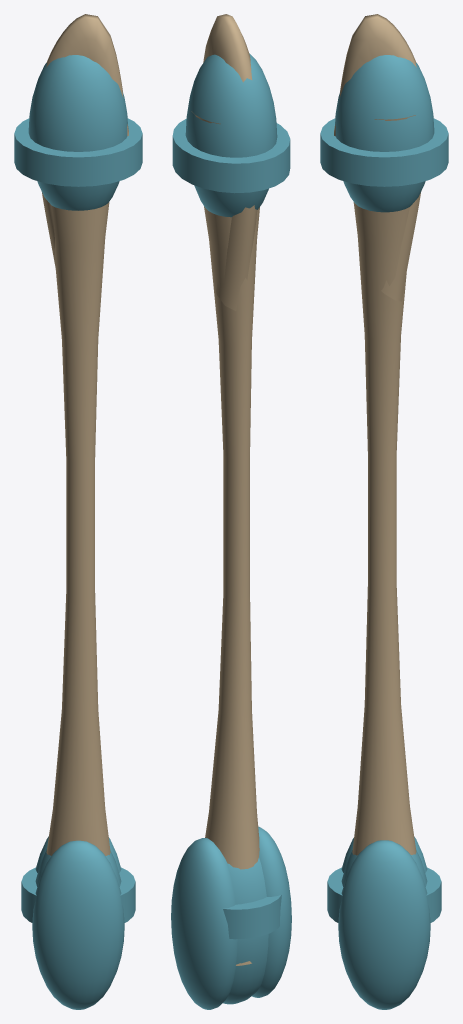
Rendered from left_ulna.glb.
3 views of the same model, side by side, from view 1: azimuth 90°, elevation 25°; view 2: azimuth 210°, elevation 25°; view 3: azimuth 270°, elevation 25° (orthographic).
Parts seen in each view (by area): view 1: left_ulna:diaphysis, left_ulna:condyle--1, left_ulna:proximal-envelope, left_ulna:proximal-epiphyseal-plate, left_ulna:olecranon, left_ulna:distal-epiphyseal-plate, left_ulna:distal-envelope; view 2: left_ulna:diaphysis, left_ulna:condyle-1, left_ulna:proximal-envelope, left_ulna:proximal-epiphyseal-plate, left_ulna:olecranon, left_ulna:condyle--1, left_ulna:distal-envelope, left_ulna:distal-epiphyseal-plate; view 3: left_ulna:diaphysis, left_ulna:condyle-1, left_ulna:proximal-envelope, left_ulna:proximal-epiphyseal-plate, left_ulna:olecranon, left_ulna:distal-epiphyseal-plate, left_ulna:distal-envelope.
Part boxes in pixels (bbox=[...]): left_ulna:diaphysis: bbox=[46, 202, 110, 855]; left_ulna:condyle--1: bbox=[32, 840, 124, 1009]; left_ulna:proximal-envelope: bbox=[28, 55, 128, 210]; left_ulna:proximal-epiphyseal-plate: bbox=[14, 118, 142, 186]; left_ulna:olecranon: bbox=[42, 14, 128, 268]; left_ulna:distal-epiphyseal-plate: bbox=[21, 867, 135, 922]; left_ulna:distal-envelope: bbox=[35, 849, 121, 886]; left_ulna:diaphysis: bbox=[191, 111, 259, 965]; left_ulna:condyle-1: bbox=[171, 838, 237, 1009]; left_ulna:proximal-envelope: bbox=[185, 53, 277, 217]; left_ulna:proximal-epiphyseal-plate: bbox=[172, 118, 290, 193]; left_ulna:olecranon: bbox=[203, 14, 257, 310]; left_ulna:condyle--1: bbox=[252, 826, 291, 997]; left_ulna:distal-envelope: bbox=[223, 858, 268, 1004]; left_ulna:distal-epiphyseal-plate: bbox=[223, 894, 281, 939]; left_ulna:diaphysis: bbox=[352, 115, 416, 855]; left_ulna:condyle-1: bbox=[338, 840, 430, 1009]; left_ulna:proximal-envelope: bbox=[334, 55, 434, 212]; left_ulna:proximal-epiphyseal-plate: bbox=[320, 118, 448, 186]; left_ulna:olecranon: bbox=[334, 14, 420, 301]; left_ulna:distal-epiphyseal-plate: bbox=[327, 867, 441, 922]; left_ulna:distal-envelope: bbox=[341, 849, 427, 886].
Size of the model in its own units: 0.0735 by 0.6615 by 0.0784.
